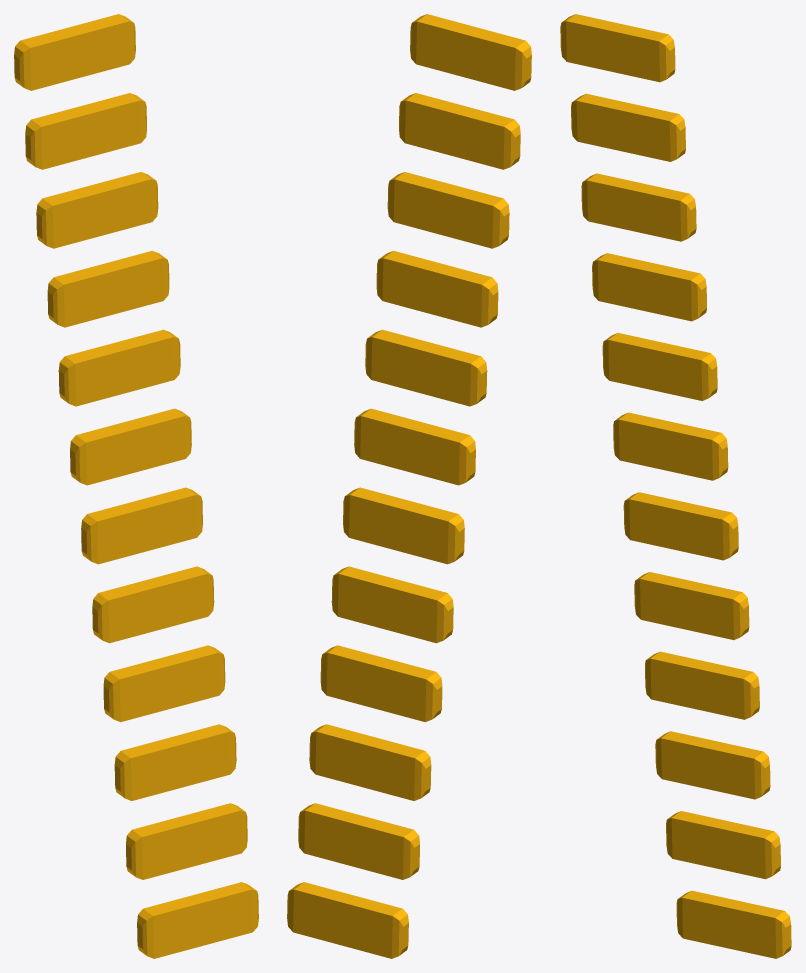
File: svetla_3.obj
3 renders of one model, left to right at view 1: azimuth 30°, elevation 25°; view 2: azimuth 150°, elevation 25°; view 3: azimuth 330°, elevation 25°, orthographic. The views are drawn at different scales.
Visible parts, largest first — view 1: Cube.046; view 2: Cube.046; view 3: Cube.046.
Boxes of the visible parts, box(x1,y1,x2,y2) form: Cube.046: box(14, 14, 258, 958); Cube.046: box(287, 14, 531, 958); Cube.046: box(560, 14, 791, 958).
Bounding box in the file's own units: 1.32 × 4.98 × 0.098.
